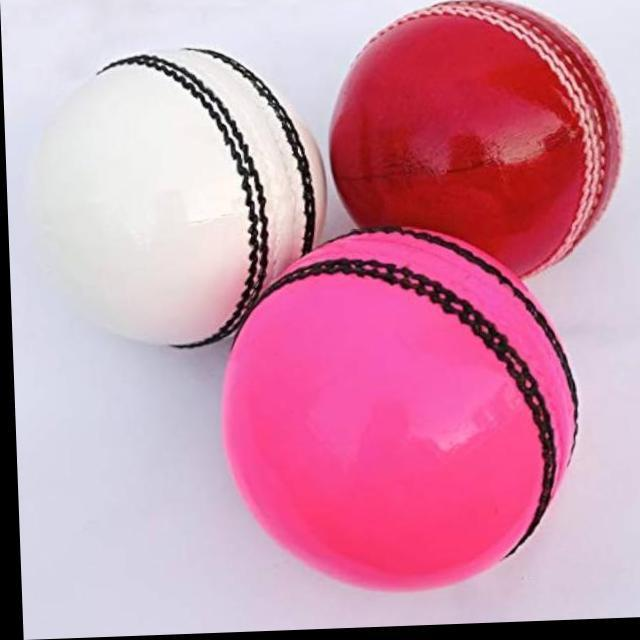cricket ball: (218, 233, 576, 596), (23, 48, 324, 351), (326, 2, 623, 285)
